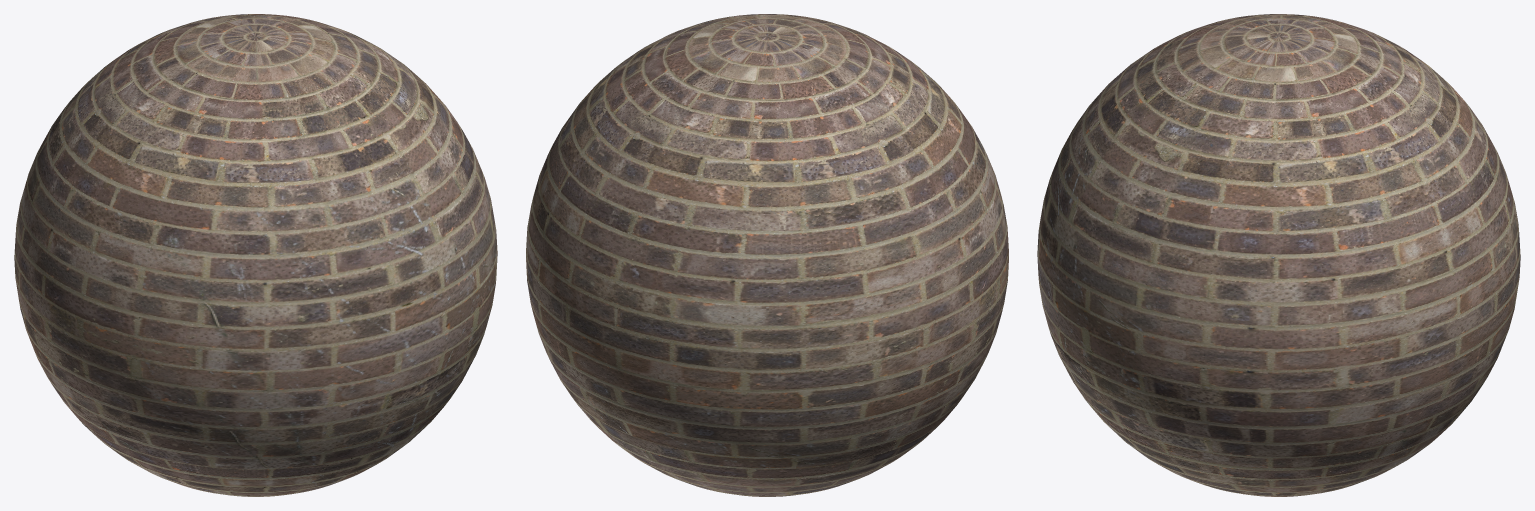
The model's file is In class import test 2.fbx.
The picture shows the model from 3 angles, left to right: view 1: azimuth 30°, elevation 25°; view 2: azimuth 150°, elevation 25°; view 3: azimuth 270°, elevation 25°; orthographic projection.
Visible parts, largest first — view 1: new material; view 2: new material; view 3: new material.
Part boxes in pixels (x1,y1,x2,y2): new material: [14, 14, 497, 496]; new material: [526, 14, 1008, 496]; new material: [1037, 14, 1520, 496].
Size of the model in its own units: 4432 by 4432 by 4433.
Materials: 1 (1 with a texture image).
